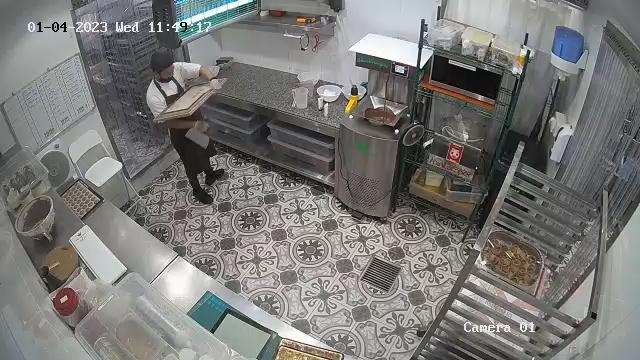apron: (155, 74, 219, 177)
